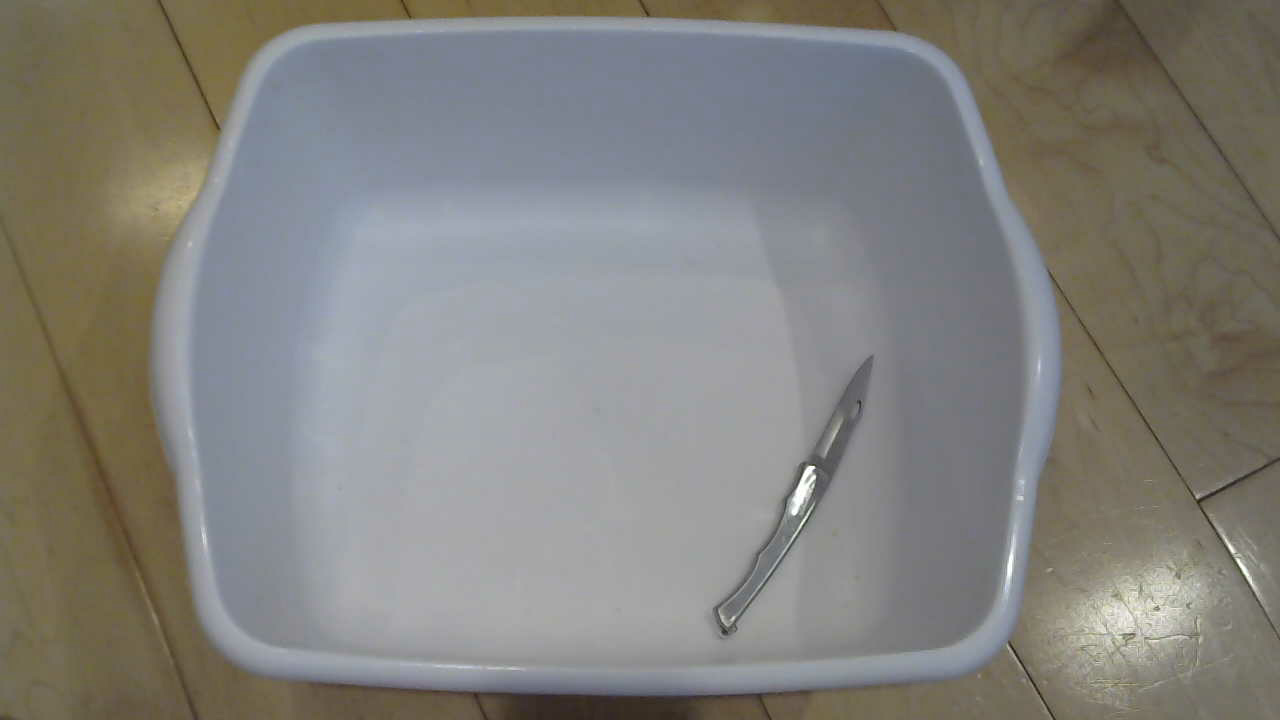knife: (693, 356, 899, 638)
